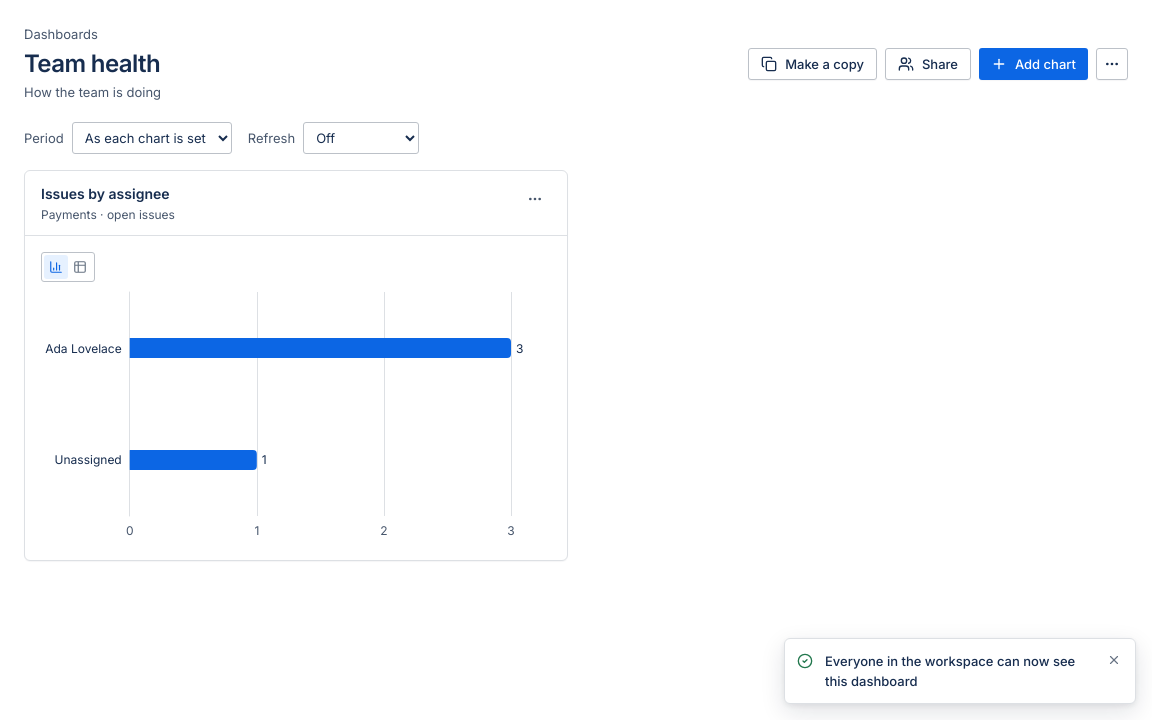
it: dashboards › shows the latest version instead of overwriting someone else's change
The width and height of the screenshot is (1152, 720).
Click the button "Share".
click(928, 64)  # box [885,48,971,80]
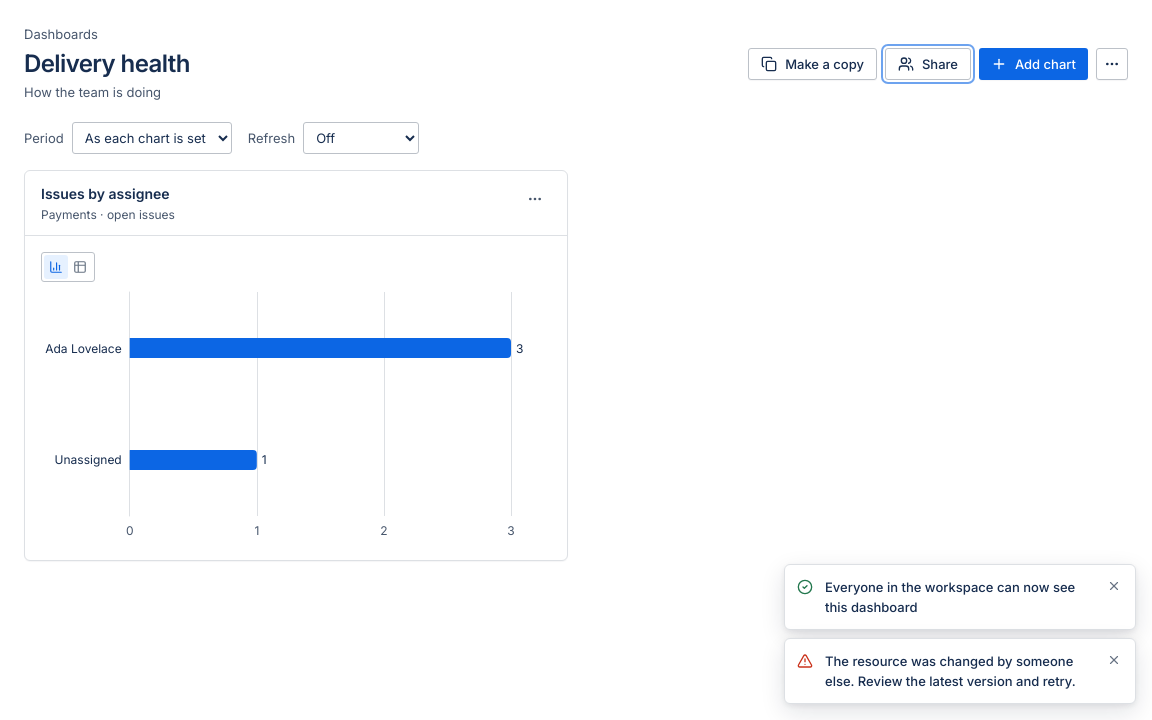
Expected: the heading "Delivery health" is shown, [24,48,190,80]
Expected: the text "changed by someone else" is shown, [825,653,1076,689]
